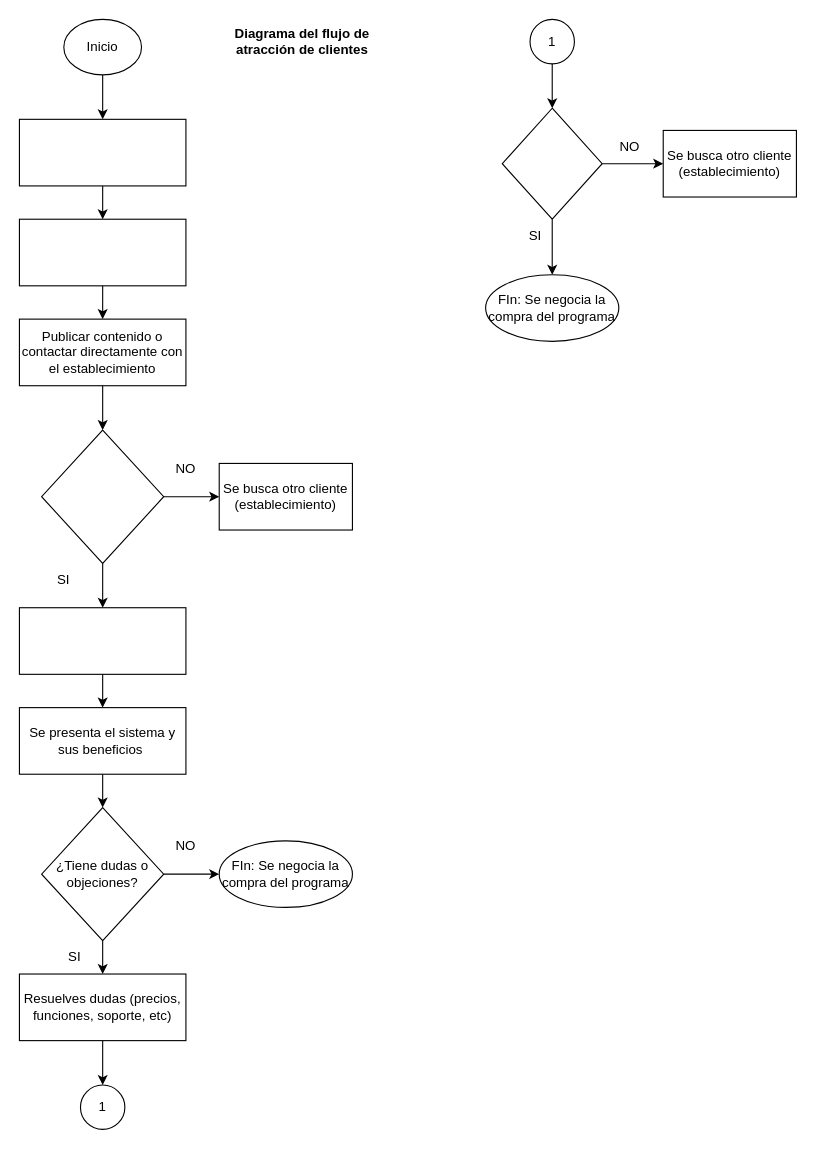
Some shapes in this 816 by 1149 pixel diagram are drawn without their labels. Each missing label, with the centre of its shape:
"Defininr el marco objetivo (Vetererinarias, esteticas caninas, guarderias)" goes at point 102,152.
"Eligir canal de promoción (Redes sociales, recomendación, Visita Directa)" goes at point 102,252.
"Se agenda la muestra del demo" goes at point 102,640.
"¿El cliente se convence?" goes at point 551,163.
"¿El establecimiento muestra interes?" goes at point 102,496.
